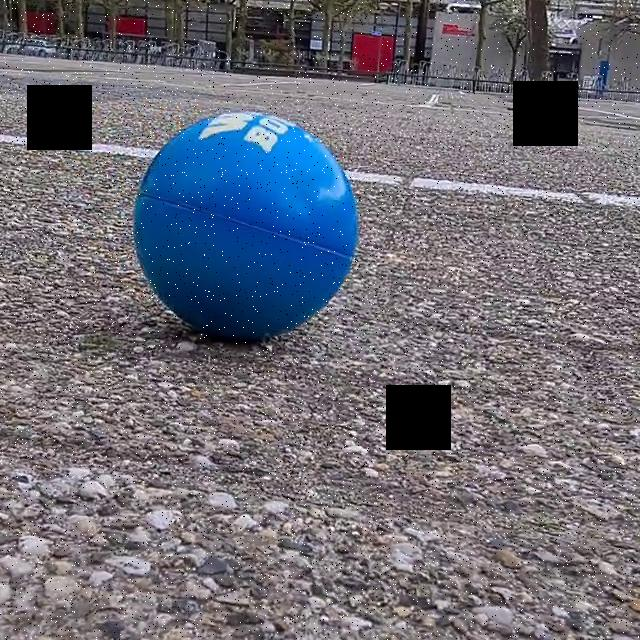ball: (128, 159, 364, 349)
